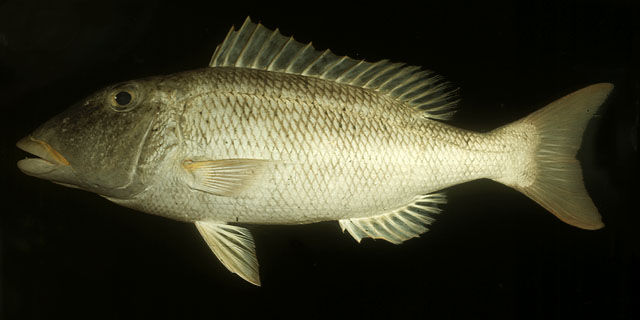fish: (17, 15, 615, 288)
